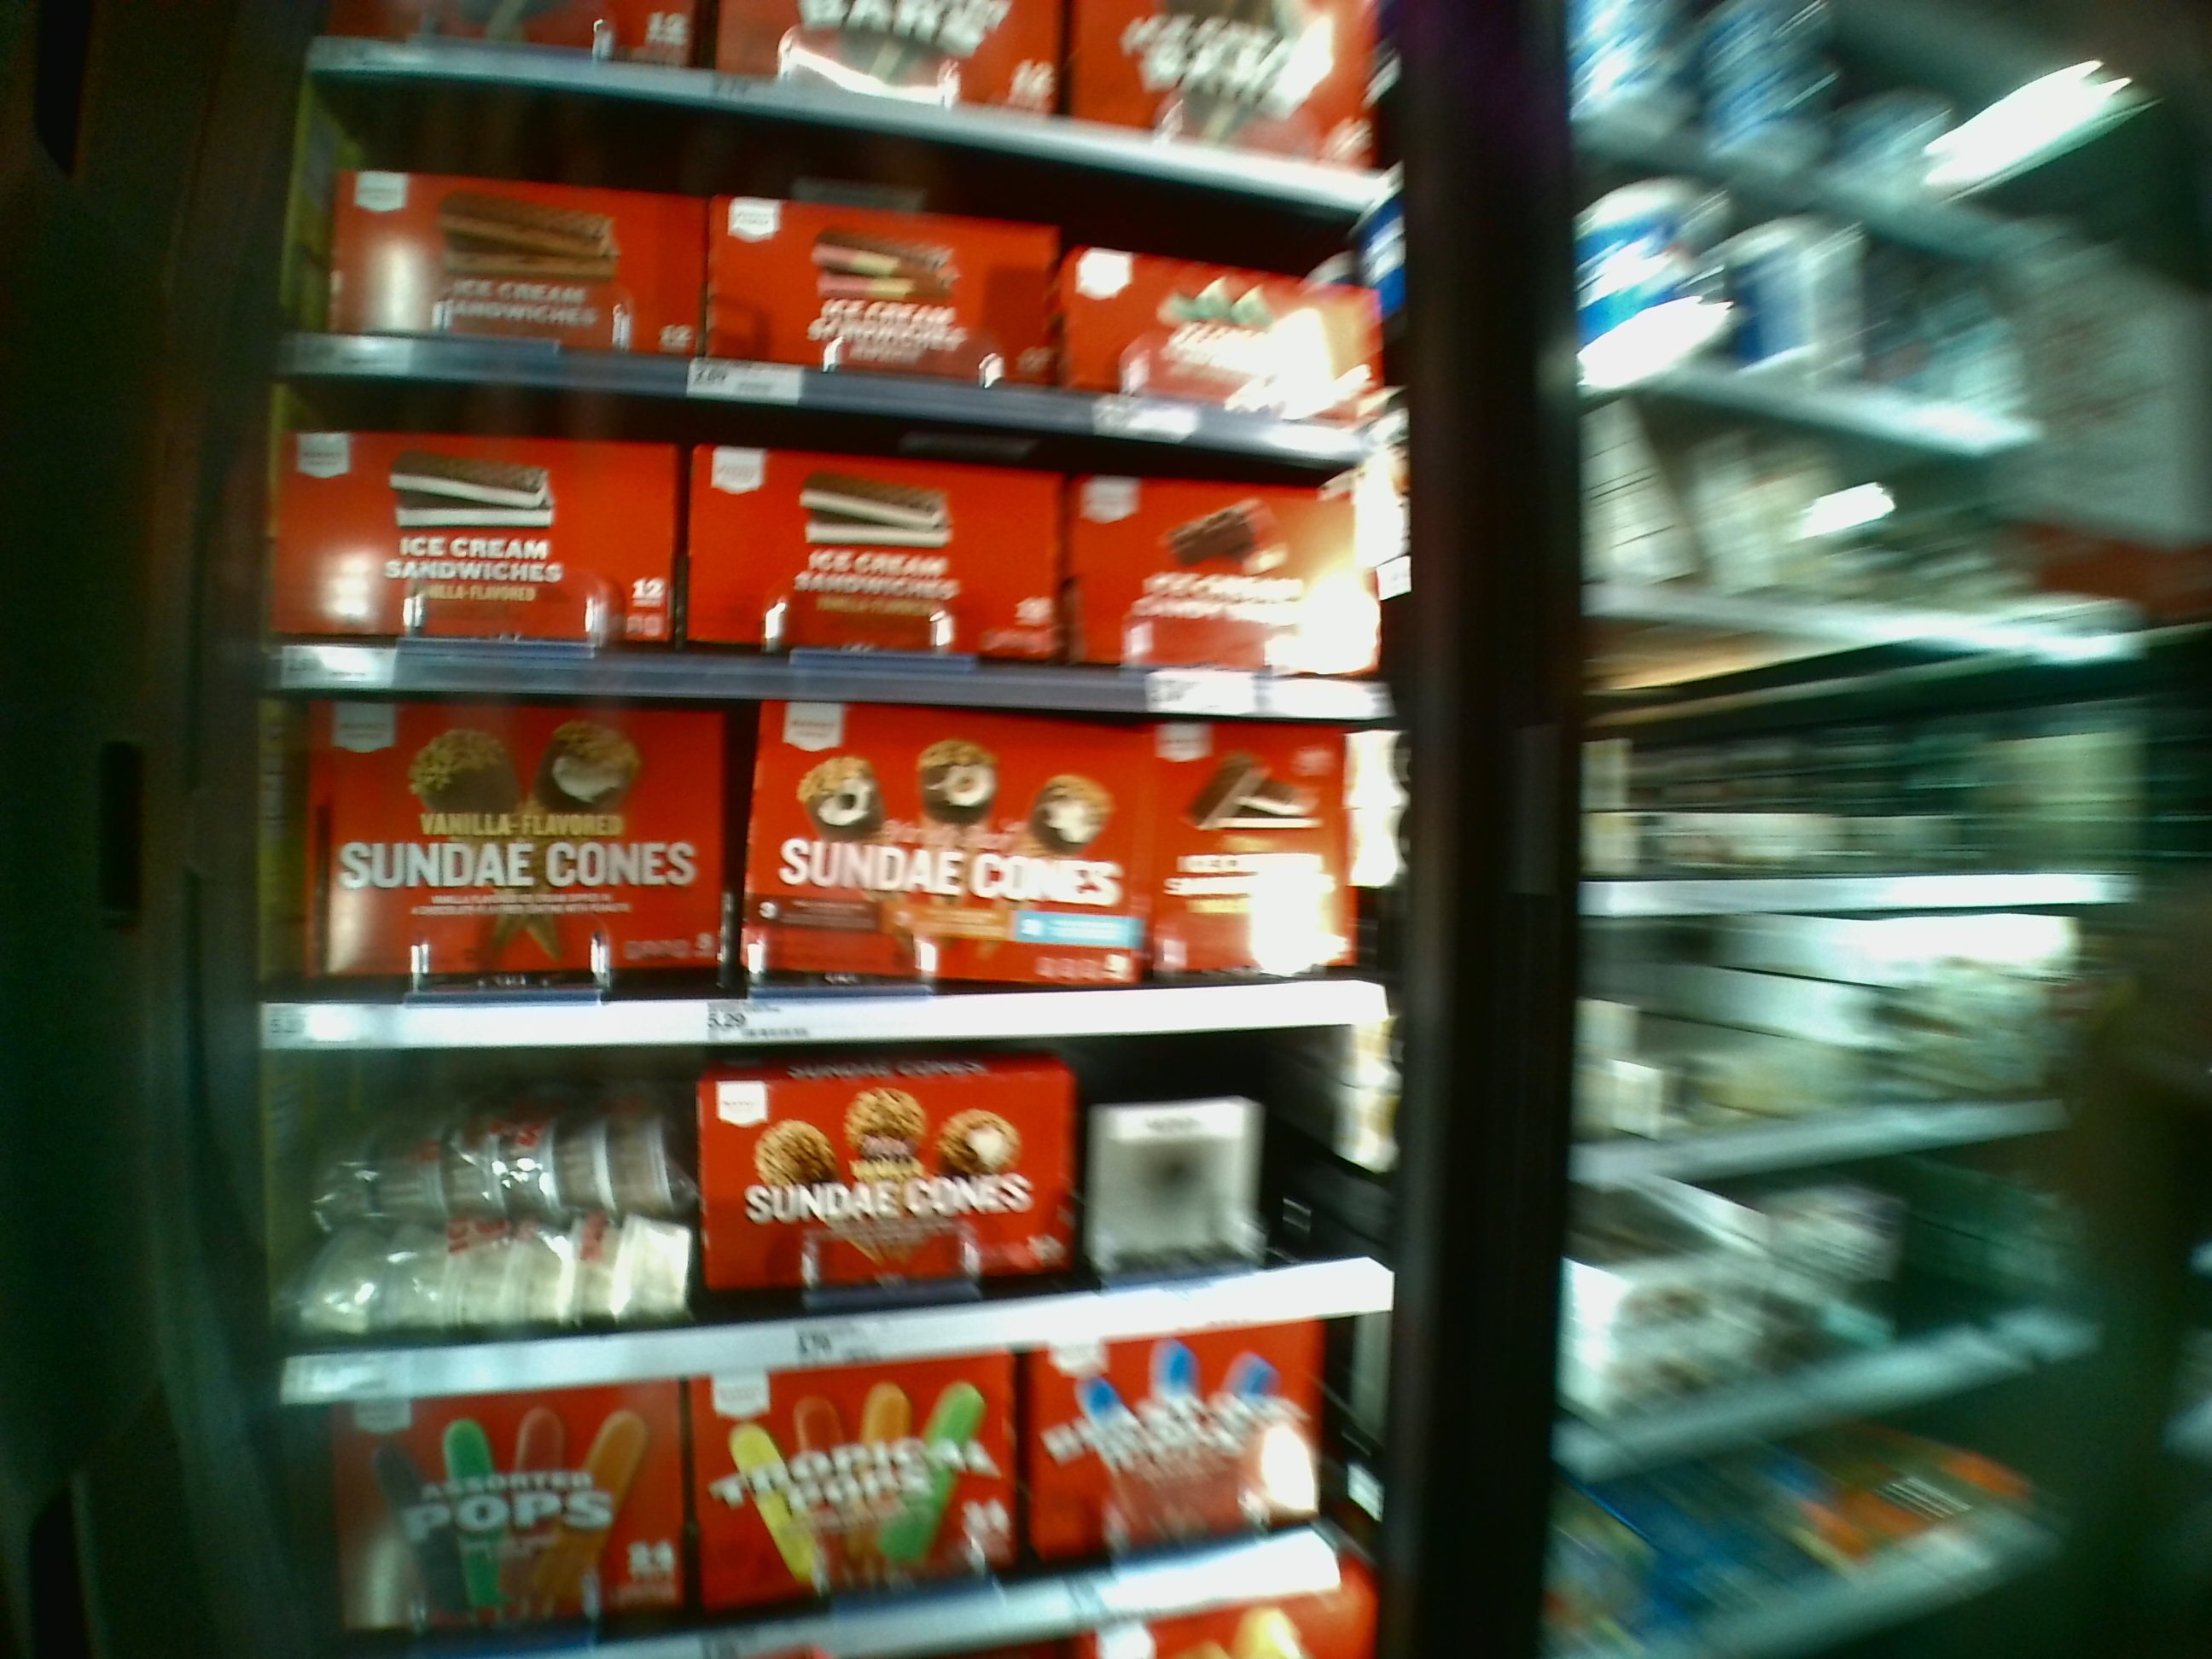shelf: (277, 404, 1402, 734), (268, 728, 1386, 1047), (305, 139, 1381, 457), (275, 1063, 1411, 1347)
